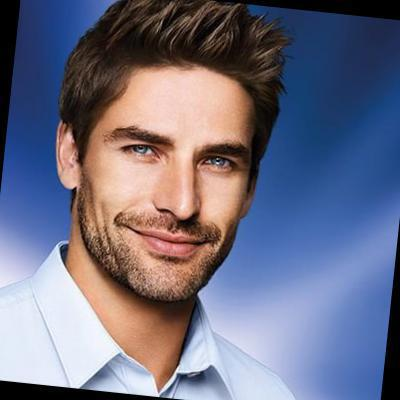Sober: (95, 69, 243, 289)
